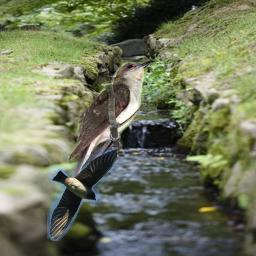Cuckoo: (56, 59, 155, 225)
Swallow: (47, 147, 117, 241)
